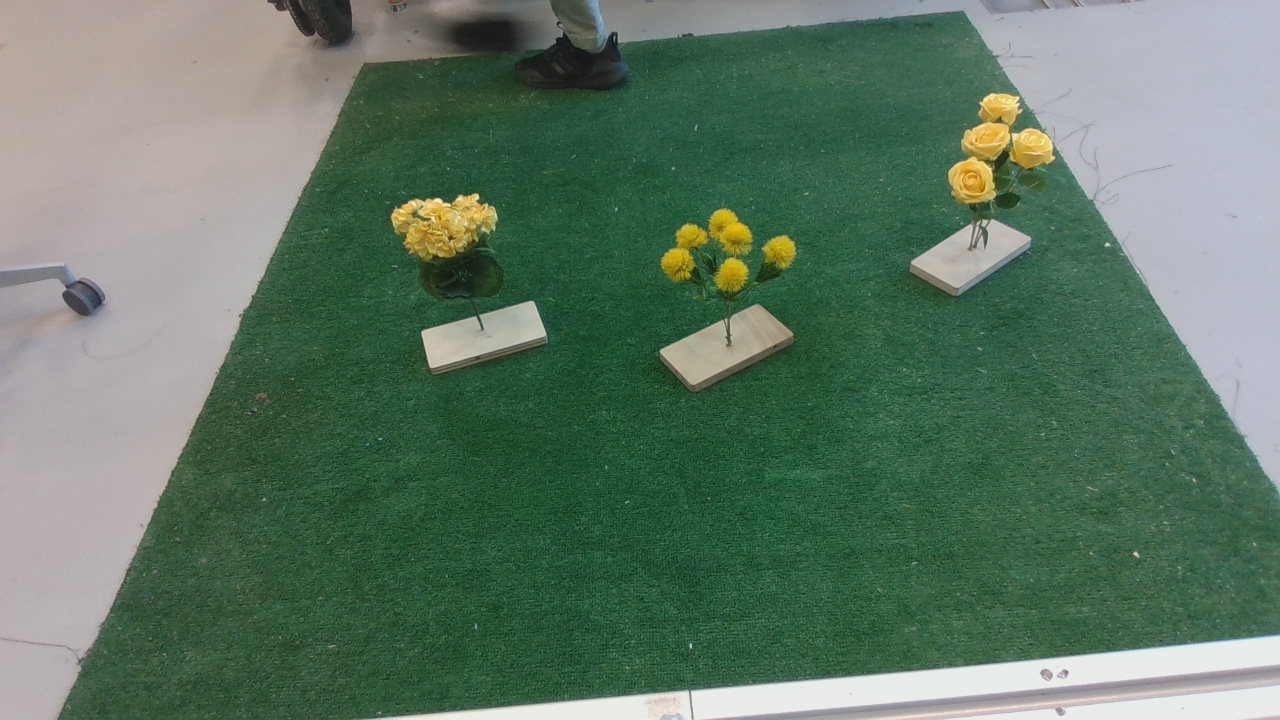dandelion: (648, 210, 809, 312)
rose: (949, 93, 1069, 234), (390, 193, 525, 315)
